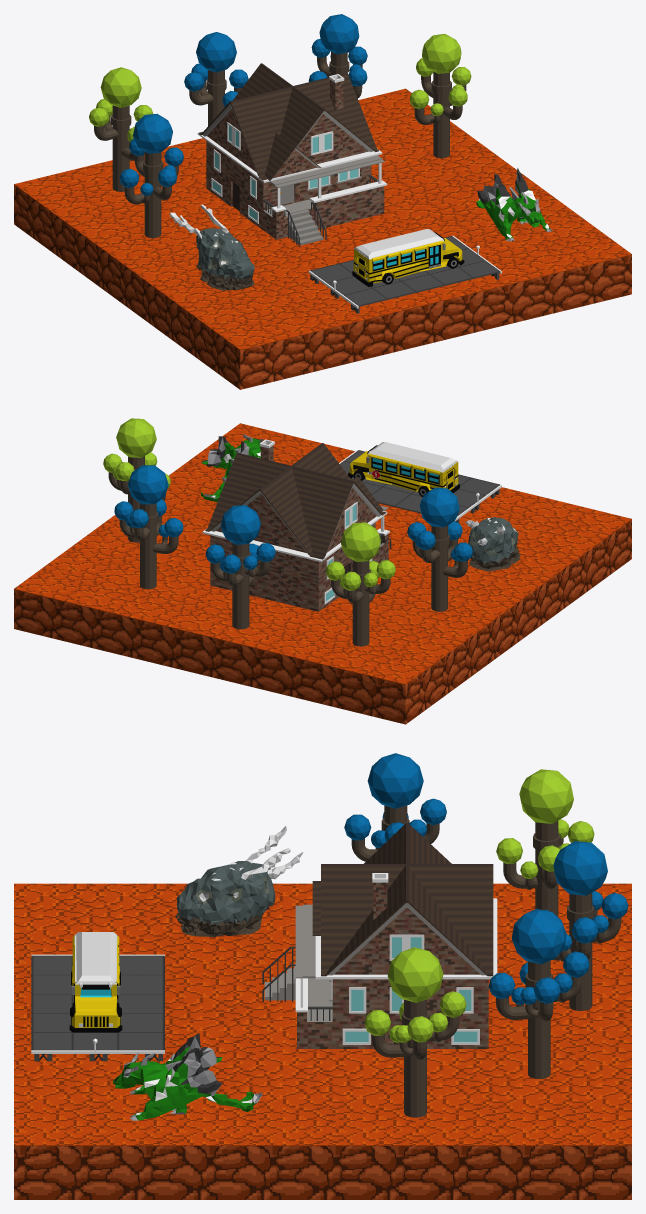
3 renders of one model, top to bottom at view 1: azimuth 30°, elevation 25°; view 2: azimuth 150°, elevation 25°; view 3: azimuth 270°, elevation 25°, orthographic. The views are drawn at different scales.
Parts seen in each view (by area): view 1: Cube.001, Cube.117, VEHICLES_SCHOOL_BUS, OBJRANDOM_METEORITE, ANIMAL_DRAGON; view 2: Cube.001, Cube.117, VEHICLES_SCHOOL_BUS, OBJRANDOM_METEORITE, ANIMAL_DRAGON; view 3: Cube.001, Cube.117, OBJRANDOM_METEORITE, ANIMAL_DRAGON, VEHICLES_SCHOOL_BUS.
Boxes of the visible parts, left/top/right/bottom form: Cube.001: left=14, top=14, right=631, bottom=389; Cube.117: left=197, top=63, right=387, bottom=246; VEHICLES_SCHOOL_BUS: left=352, top=229, right=464, bottom=286; OBJRANDOM_METEORITE: left=170, top=204, right=254, bottom=290; ANIMAL_DRAGON: left=476, top=168, right=552, bottom=241; Cube.001: left=14, top=418, right=631, bottom=724; Cube.117: left=202, top=439, right=391, bottom=611; VEHICLES_SCHOOL_BUS: left=348, top=442, right=459, bottom=496; OBJRANDOM_METEORITE: left=465, top=517, right=520, bottom=571; ANIMAL_DRAGON: left=201, top=434, right=262, bottom=502; Cube.001: left=14, top=753, right=631, bottom=1199; Cube.117: left=262, top=823, right=497, bottom=1048; OBJRANDOM_METEORITE: left=175, top=826, right=303, bottom=936; ANIMAL_DRAGON: left=113, top=1033, right=262, bottom=1120; VEHICLES_SCHOOL_BUS: left=69, top=932, right=122, bottom=1032.
Bounding box in the file's own units: 4000 × 1663 × 4000.
Materials: 38 (5 with a texture image).
